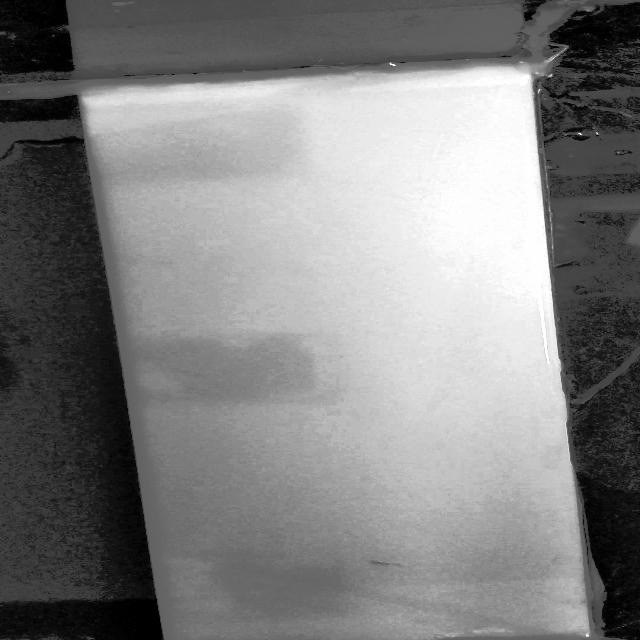shrimp: (353, 557, 398, 572)
